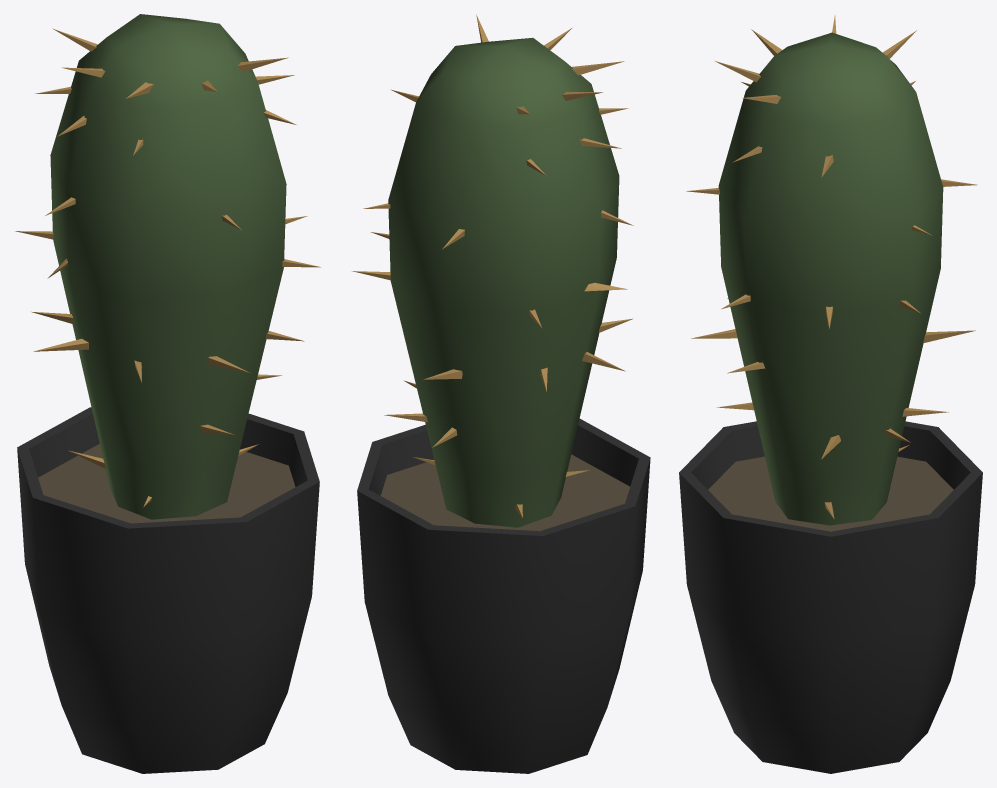
File: Houseplant_3.glb
3 views of the same model, side by side, from view 1: azimuth 30°, elevation 25°; view 2: azimuth 150°, elevation 25°; view 3: azimuth 270°, elevation 25° (orthographic). The views are drawn at different scales.
Parts seen in each view (by area): view 1: Houseplant_3; view 2: Houseplant_3; view 3: Houseplant_3.
Part boxes in pixels (x1,y1,x2,y2): Houseplant_3: (15, 14, 320, 773); Houseplant_3: (352, 14, 650, 773); Houseplant_3: (679, 15, 982, 773).
Size of the model in its own units: 0.1675 by 0.4132 by 0.1654.
4 materials, 4 textured.
